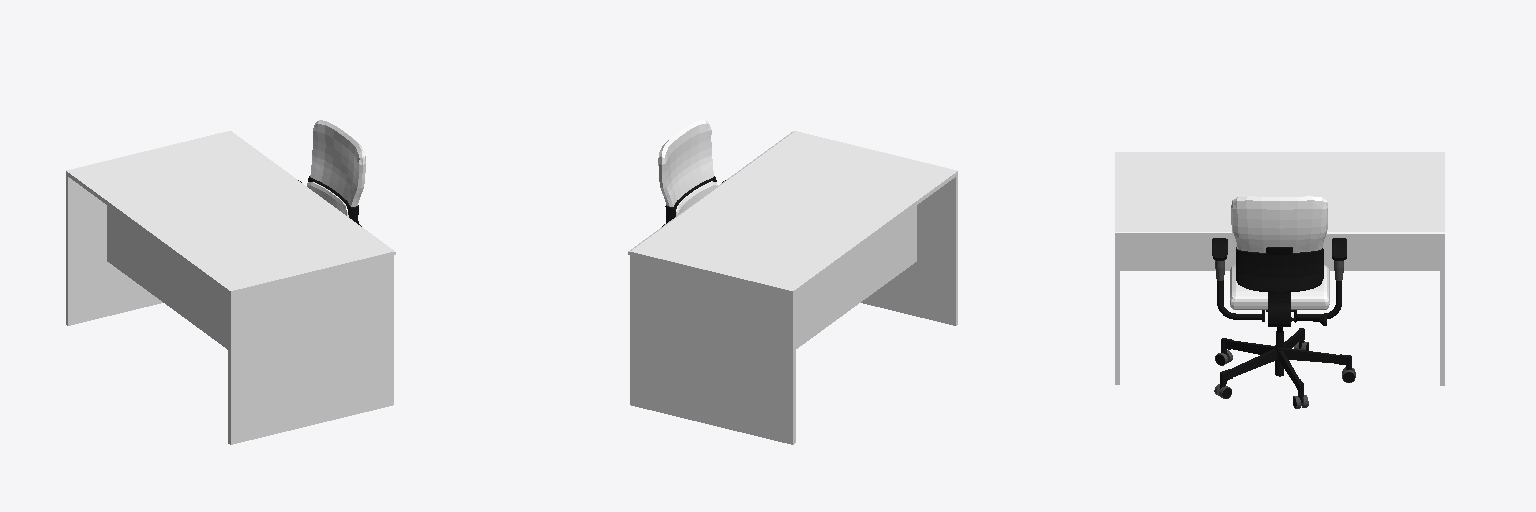
Rendered from office-set.obj.
The picture shows the model from 3 angles: view 1: azimuth 30°, elevation 25°; view 2: azimuth 150°, elevation 25°; view 3: azimuth 270°, elevation 25°; orthographic projection.
Parts seen in each view (by area): view 1: office-set.001; view 2: office-set.001; view 3: office-set.001.
Boxes of the visible parts, x1,y1,x2,y2 form: office-set.001: [66, 120, 395, 444]; office-set.001: [628, 120, 957, 444]; office-set.001: [1115, 152, 1444, 408].
Bounding box in the file's own units: 1.9 × 1.72 × 2.51.